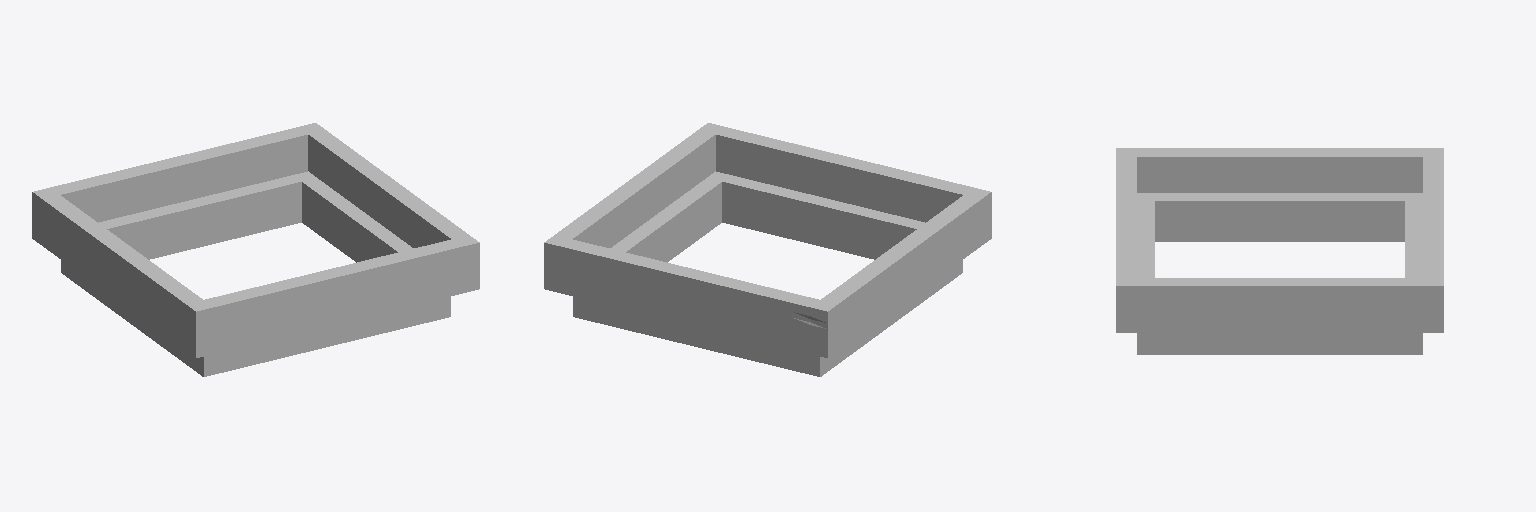
Rendered from plains.obj.
3 renders of one model, left to right at view 1: azimuth 30°, elevation 25°; view 2: azimuth 150°, elevation 25°; view 3: azimuth 270°, elevation 25°, orthographic.
Parts seen in each view (by area): view 1: Cube.001_Cube.012, Cube_Cube.009; view 2: Cube.001_Cube.012, Cube_Cube.009; view 3: Cube.001_Cube.012, Cube_Cube.009.
Boxes of the visible parts, x1=… form: Cube.001_Cube.012: x1=32, y1=123, x2=479, y2=357; Cube_Cube.009: x1=61, y1=171, x2=450, y2=376; Cube.001_Cube.012: x1=544, y1=123, x2=991, y2=357; Cube_Cube.009: x1=573, y1=171, x2=962, y2=376; Cube.001_Cube.012: x1=1116, y1=148, x2=1443, y2=332; Cube_Cube.009: x1=1137, y1=193, x2=1422, y2=354.
Size of the model in its own units: 337 by 88.18 by 337.